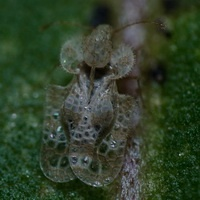insect: (40, 24, 139, 193)
